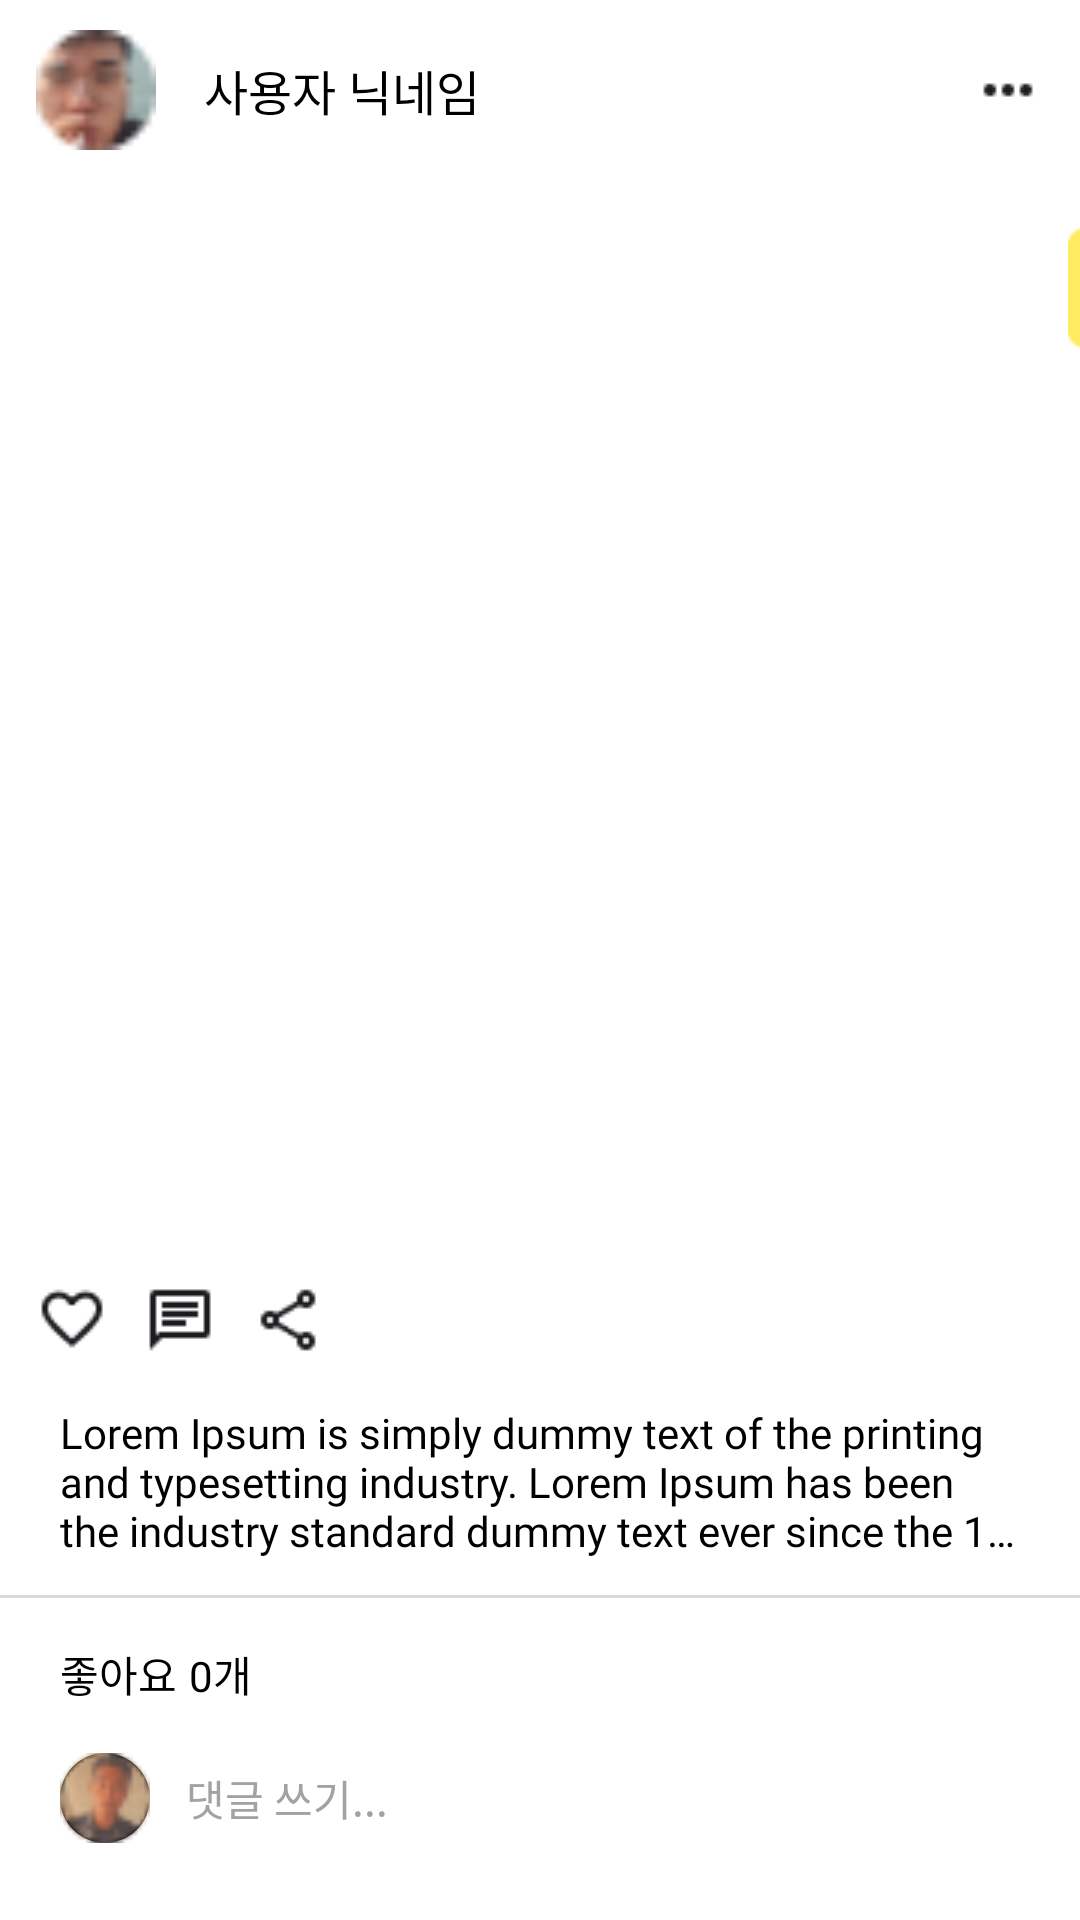

Icon bounding boxes for this 1080px x 1920px phone screenshot, format (x1, y1, x2, y2):
comment: (149, 1289, 211, 1351)
contributor: (36, 30, 156, 150), (60, 1753, 150, 1843)
like: (41, 1289, 103, 1348)
share: (260, 1289, 316, 1351)
